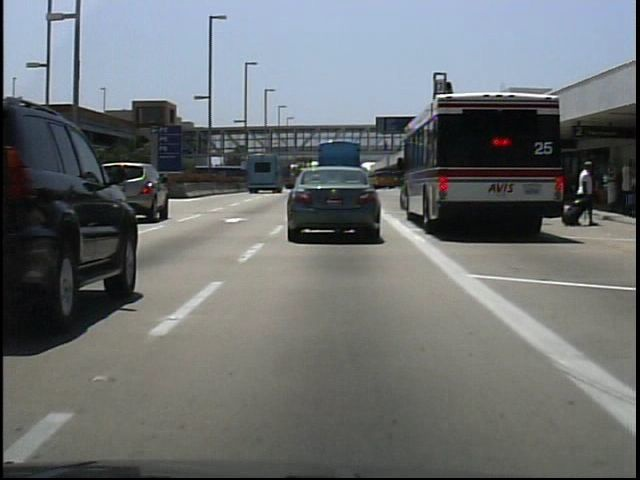person: (570, 157, 599, 230), (381, 137, 394, 157)
